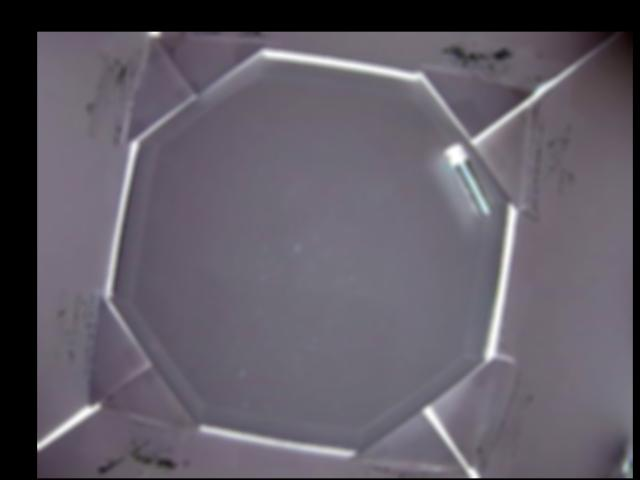Battery: (443, 144, 493, 217)
